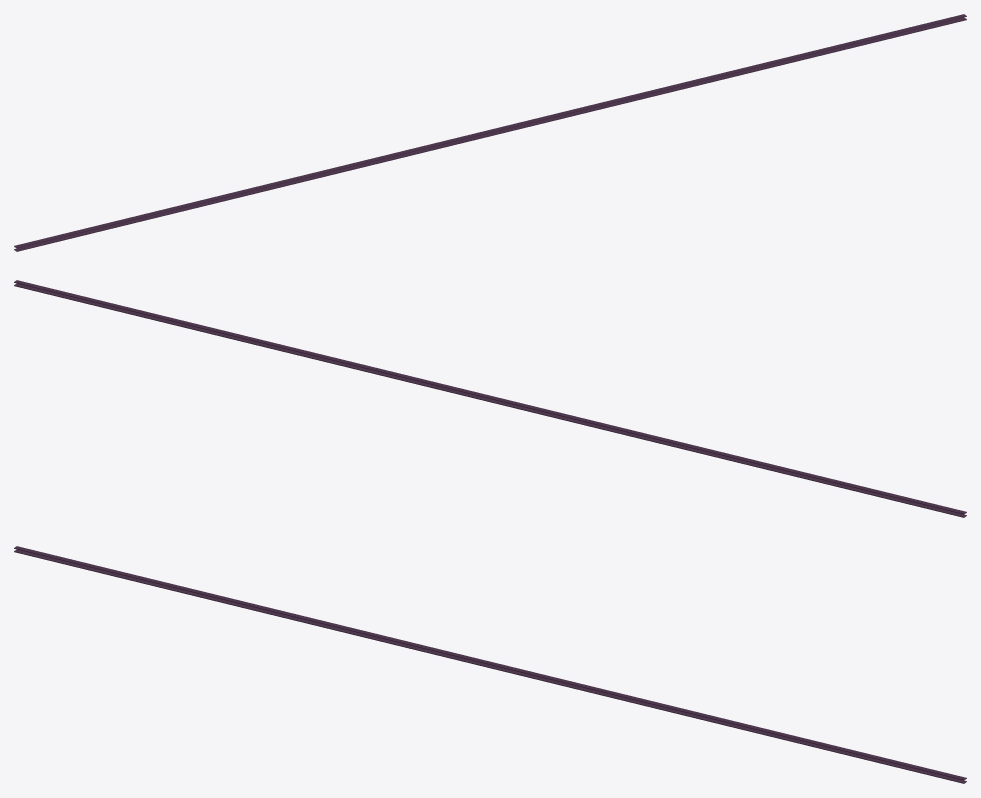
File: GCC-AAV-13220-30(38).fbx
3 views of the same model, one above another, from view 1: azimuth 30°, elevation 25°; view 2: azimuth 150°, elevation 25°; view 3: azimuth 330°, elevation 25° (orthographic).
Bounding box in the file's own units: 3071 × 12.24 × 15.75.
